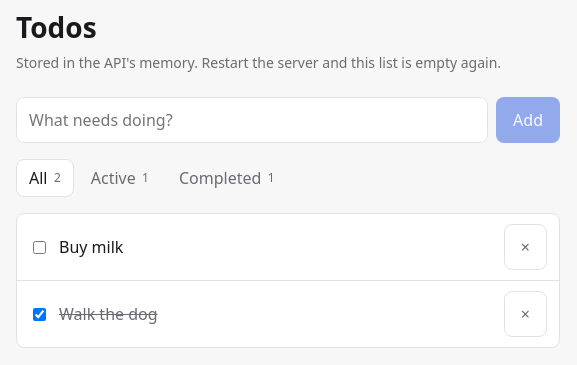
Test: TodoApp › filters › shows only finished todos under Completed
The width and height of the screenshot is (577, 365).
Click the tab "Completed 1". click: (227, 178)
box: [166,159,288,197]
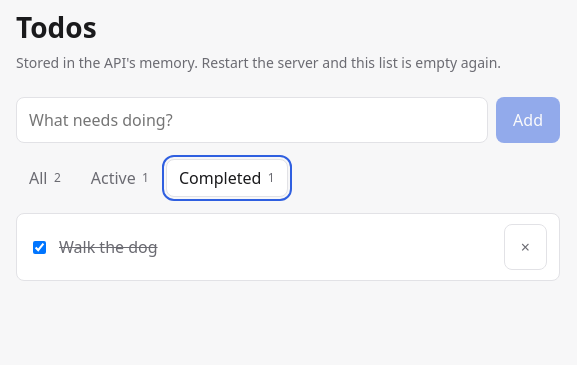
expect the text "Walk the dog" is shown: met, box [59,235,158,259]
expect the text "Buy milk" is gone: met
